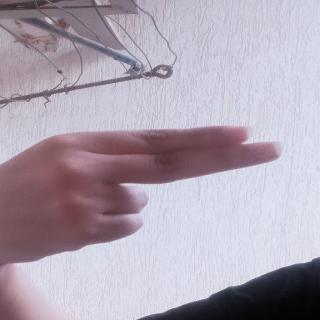AYN: (4, 110, 278, 272)
